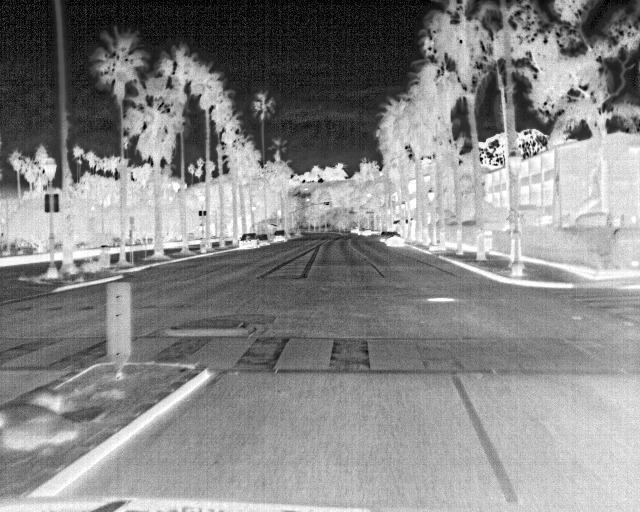car: (385, 230, 406, 248), (241, 235, 258, 249), (254, 233, 270, 246), (273, 228, 287, 242), (379, 230, 393, 243), (358, 226, 374, 236), (349, 225, 359, 235)
